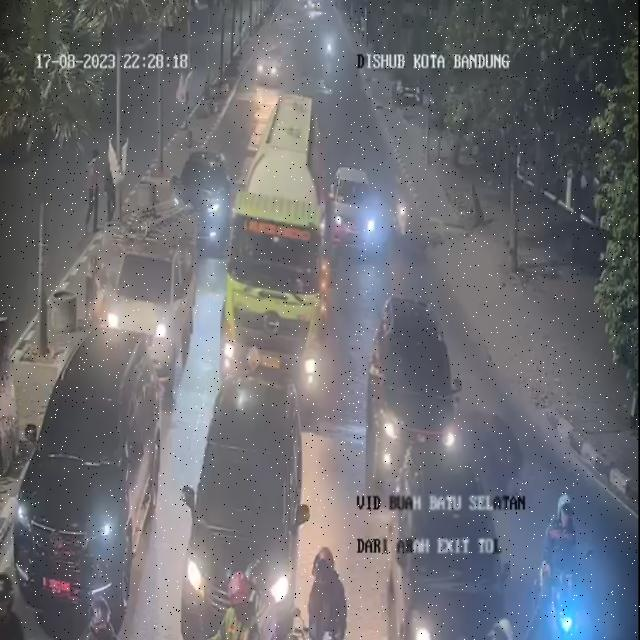cars: (16, 328, 165, 630), (184, 371, 308, 640), (381, 442, 506, 640), (366, 290, 462, 492), (105, 240, 199, 392), (175, 143, 228, 253), (333, 160, 382, 260), (258, 34, 288, 96)
motorcycle: (530, 487, 590, 640), (310, 543, 354, 638), (392, 169, 414, 254), (0, 572, 26, 640)
truck: (220, 144, 330, 414)
